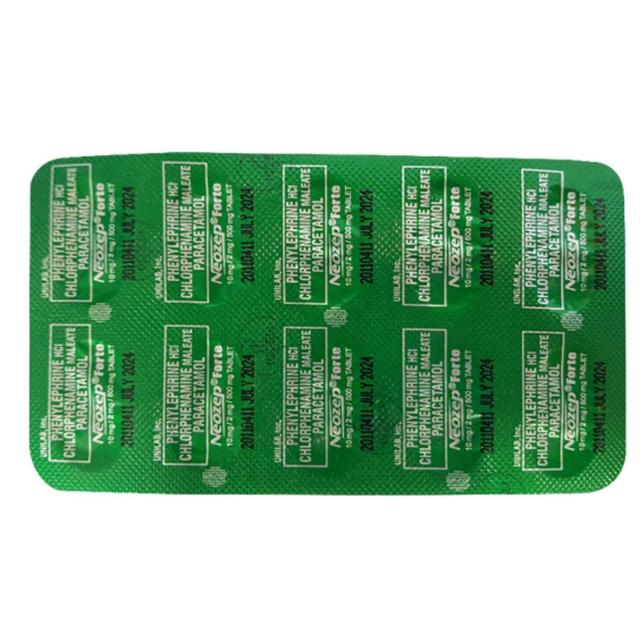blister: (28, 146, 632, 497)
